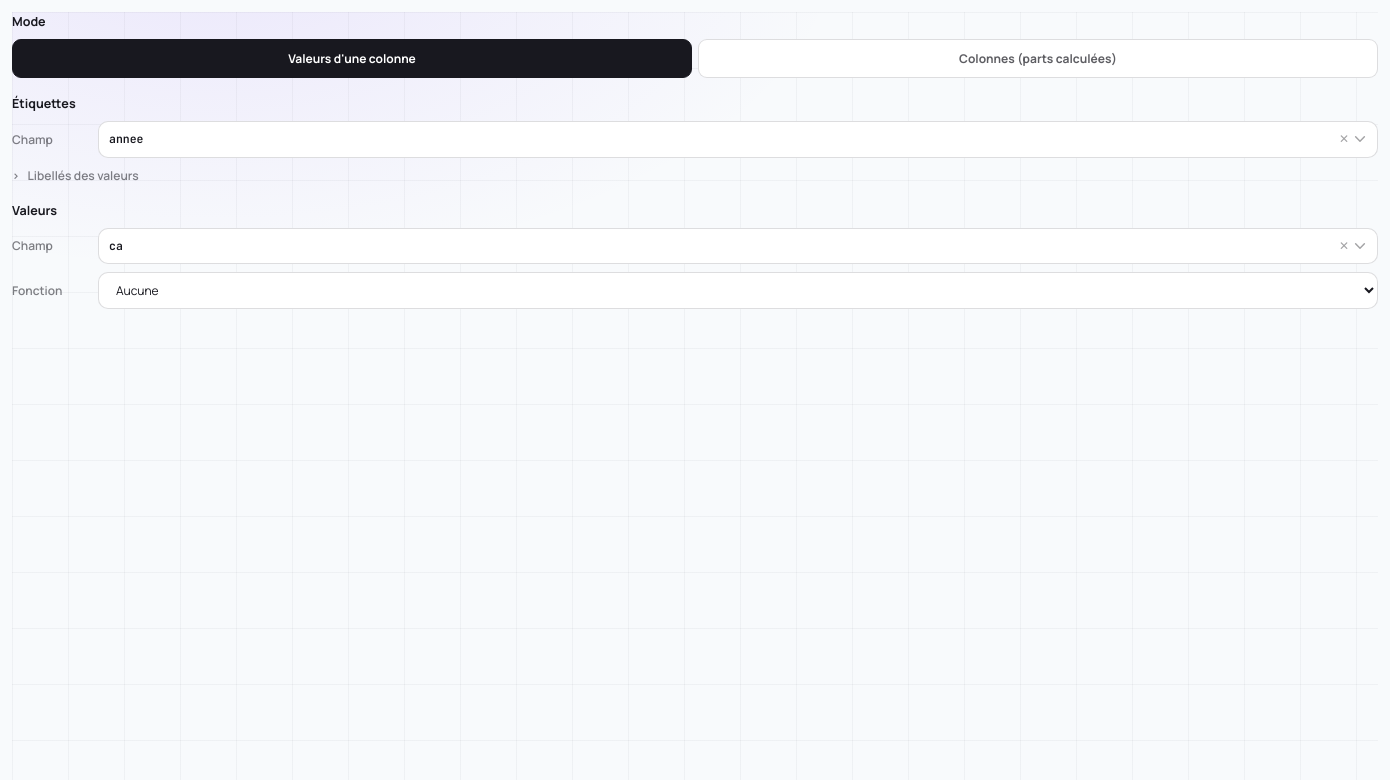
Test: ChartMappingField — pie / kpi › pie: switching to "Parts calculées" sets config.pieMode and shows the parts editor
The image size is (1390, 780).
Click the button "Colonnes (parts calculées)": (1038, 59) [698,39,1378,78]
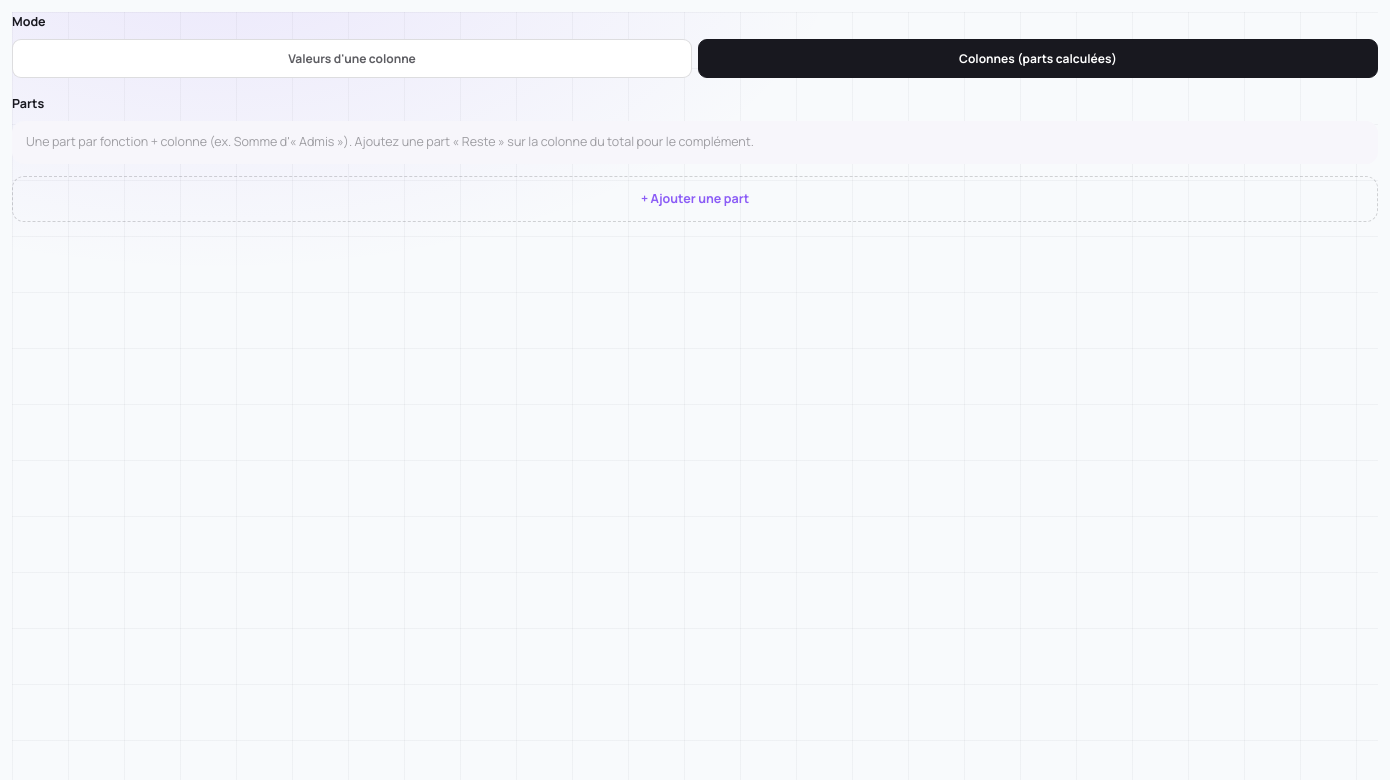
Expected: the text "Ajouter une part" is shown, [12,176,1378,222]
Expected: the text "Étiquettes" is gone
